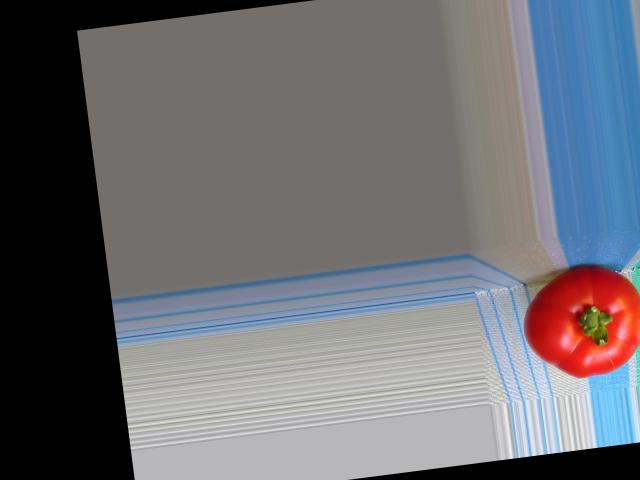tomato: (518, 258, 640, 384)
